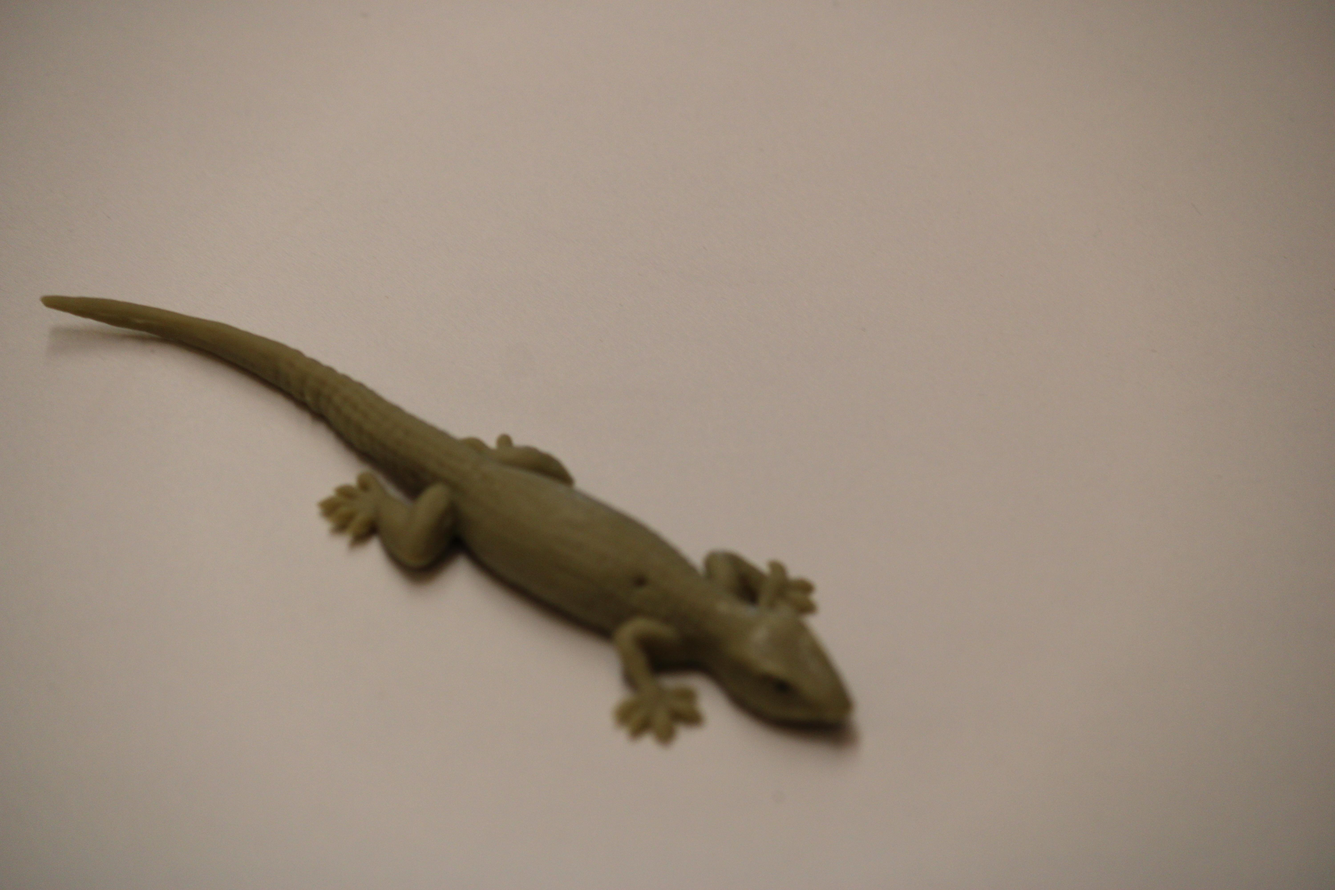lizard: (32, 263, 855, 760)
